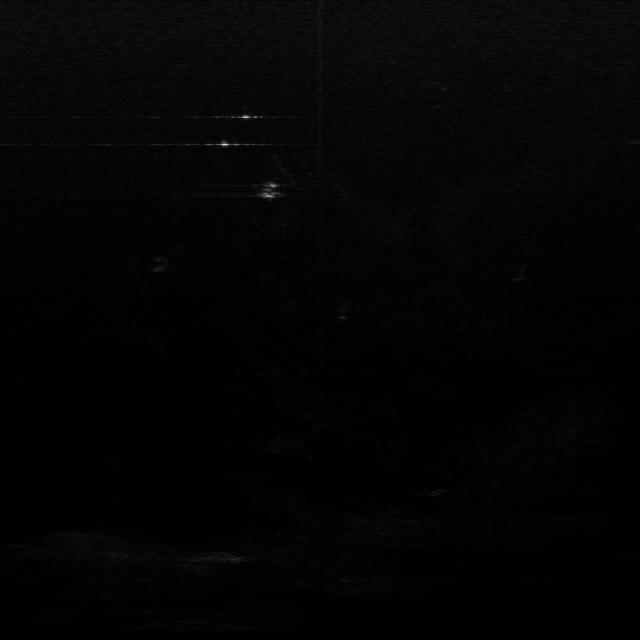rov: (257, 180, 283, 202)
